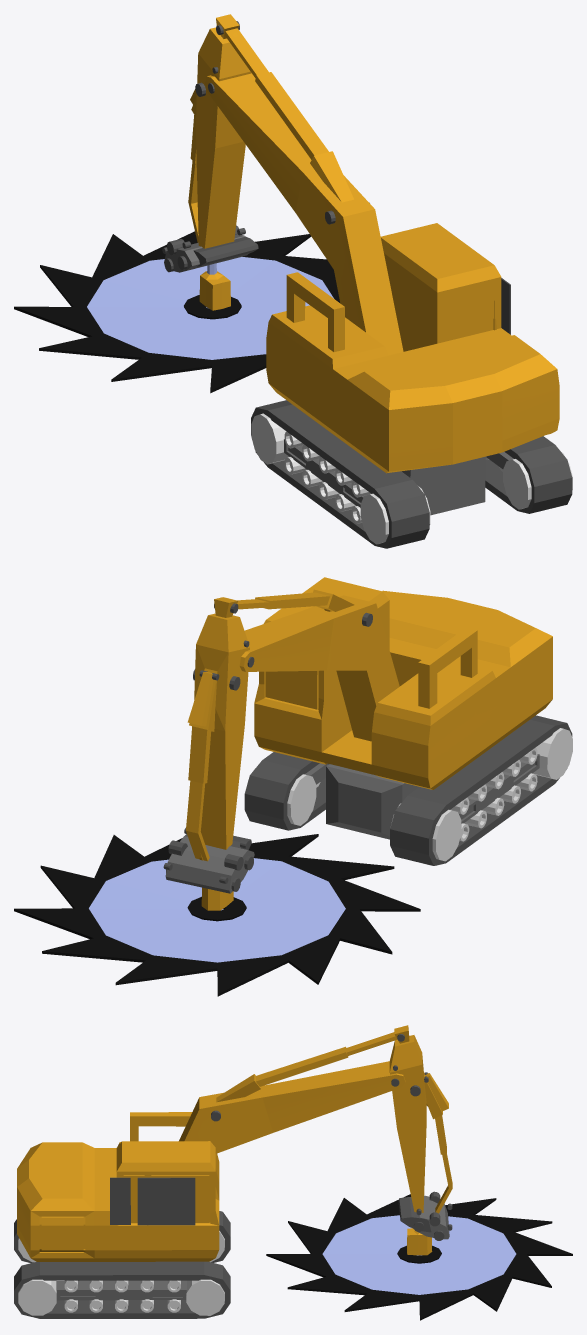
Rendered from boss.fbx.
3 renders of one model, top to bottom at view 1: azimuth 30°, elevation 25°; view 2: azimuth 150°, elevation 25°; view 3: azimuth 270°, elevation 25°, orthographic. The views are drawn at different scales.
Parts seen in each view (by area): view 1: Cylinder.002, Circle, Cube.001, Cube.004, Cube.002; view 2: Cylinder.002, Circle, Cube.001, Cube.004; view 3: Cylinder.002, Circle, Cube.001, Cube.005, Cube.004, Cube.002.
Part boxes in pixels (x1=…): Cylinder.002: x1=162, y1=14, x2=559, y2=473; Circle: x1=14, y1=231, x2=339, y2=393; Cube.001: x1=251, y1=400, x2=572, y2=548; Cube.004: x1=284, y1=439, x2=513, y2=515; Cube.002: x1=193, y1=236, x2=258, y2=266; Cylinder.002: x1=163, y1=577, x2=552, y2=910; Circle: x1=14, y1=834, x2=420, y2=996; Cube.001: x1=244, y1=715, x2=572, y2=865; Cube.004: x1=305, y1=754, x2=539, y2=839; Cylinder.002: x1=17, y1=1025, x2=452, y2=1261; Circle: x1=266, y1=1194, x2=572, y2=1320; Cube.001: x1=14, y1=1211, x2=230, y2=1318; Cube.005: x1=110, y1=1177, x2=195, y2=1225; Cube.004: x1=56, y1=1280, x2=186, y2=1300; Cube.002: x1=398, y1=1197, x2=431, y2=1232.
Bounding box in the file's own units: 357 × 328 × 649.
